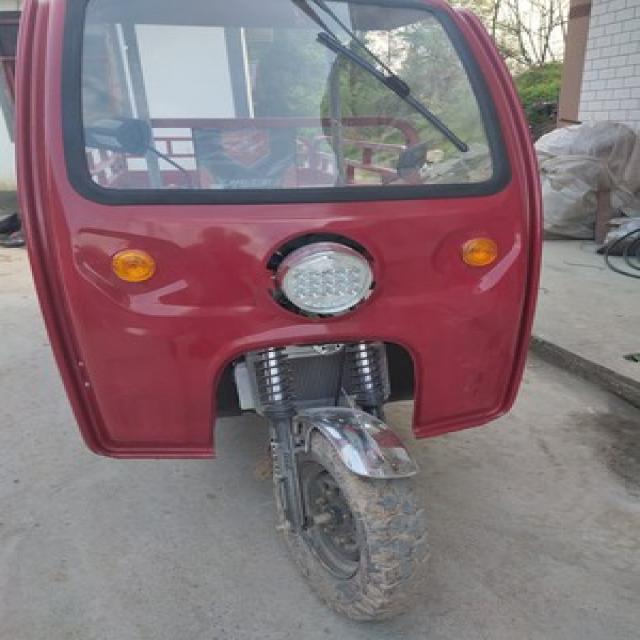tricycle: (0, 0, 539, 622)
